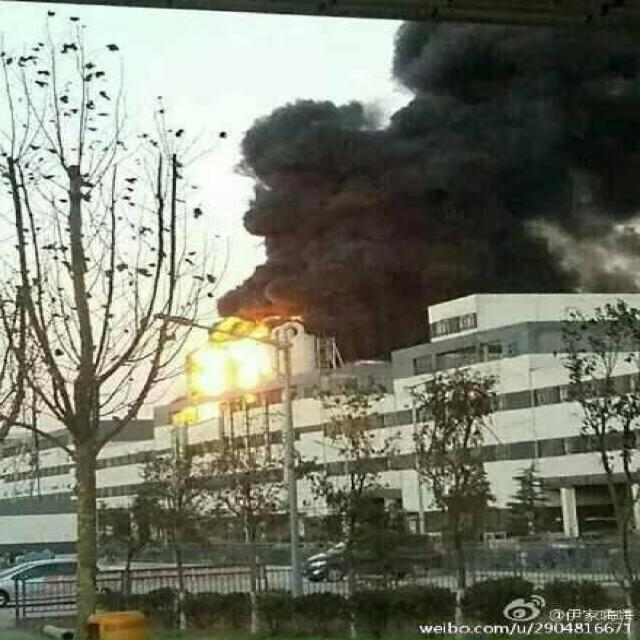fire: (175, 315, 269, 417)
smoke: (217, 20, 637, 359)
